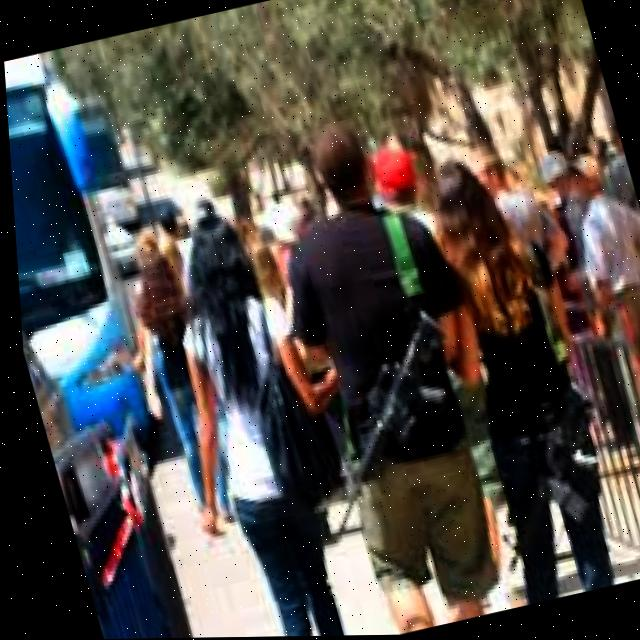firearm: (271, 306, 491, 546), (453, 376, 628, 577)
